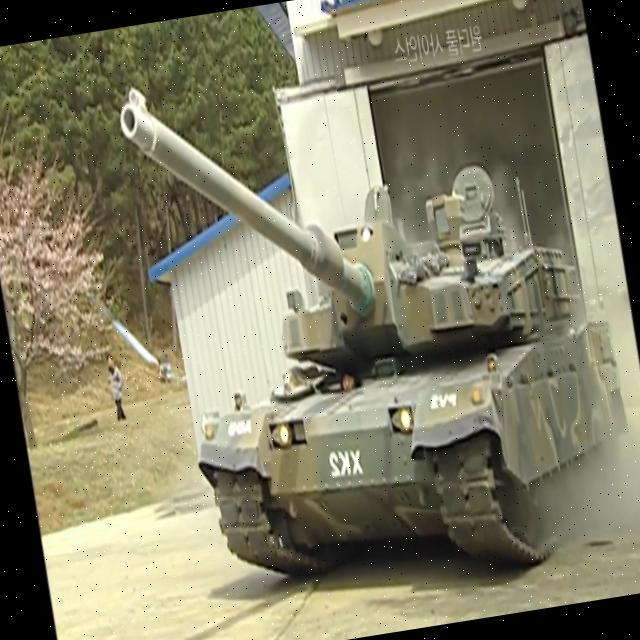korea tank: (114, 15, 640, 619)
